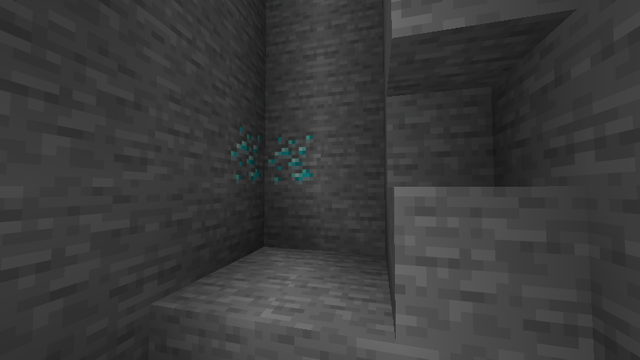diamond: (226, 118, 318, 185)
